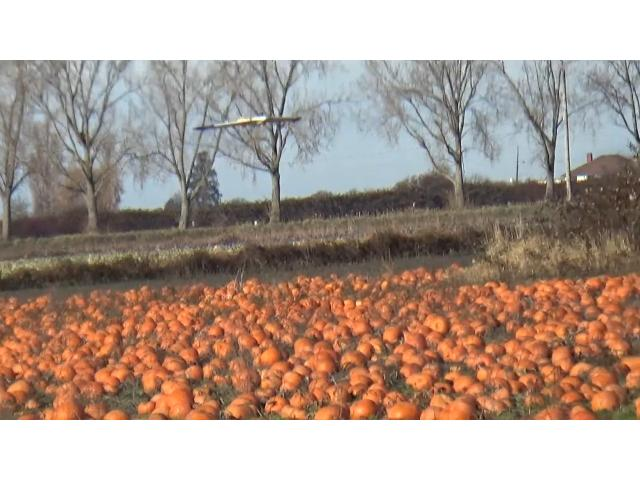Anti-Drone: (192, 116, 300, 131)
